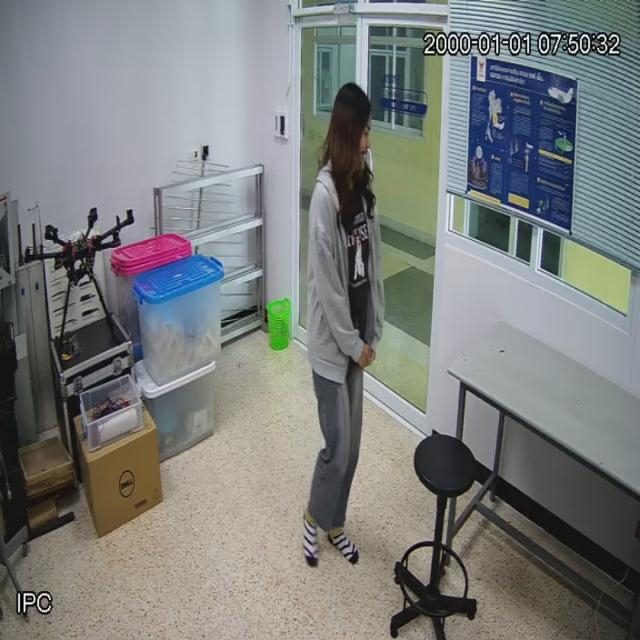normal: (306, 84, 386, 548)
